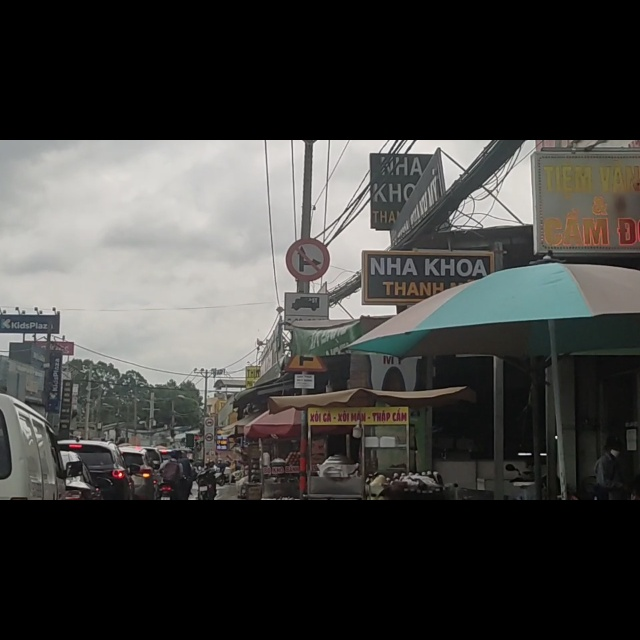bien_nguy_hiem: (287, 177, 329, 247), (285, 269, 327, 322), (282, 386, 326, 409)
